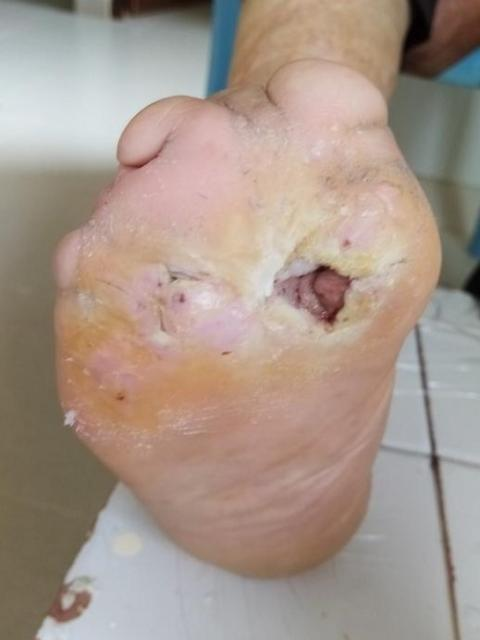wound: (265, 248, 367, 338), (139, 259, 225, 351)
